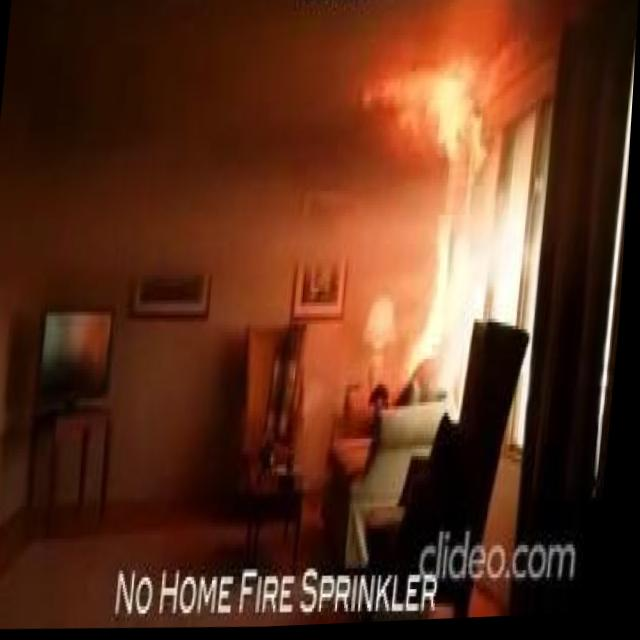fire: (355, 45, 484, 176), (413, 211, 457, 357)
